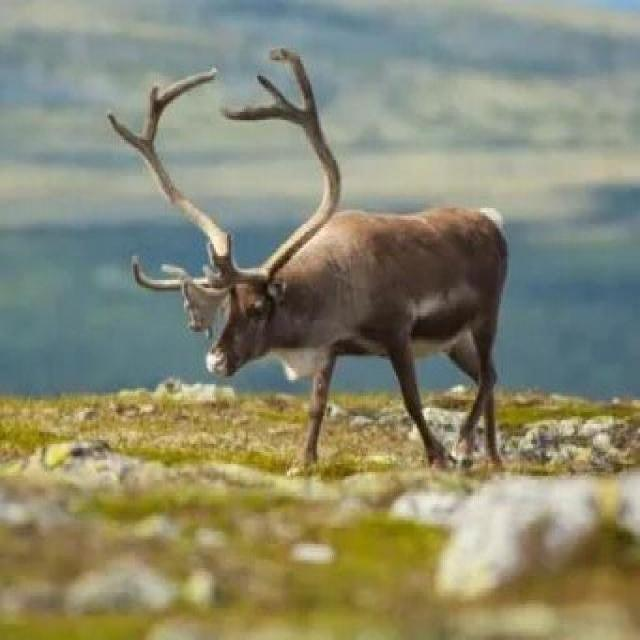deer: (137, 54, 556, 482)
